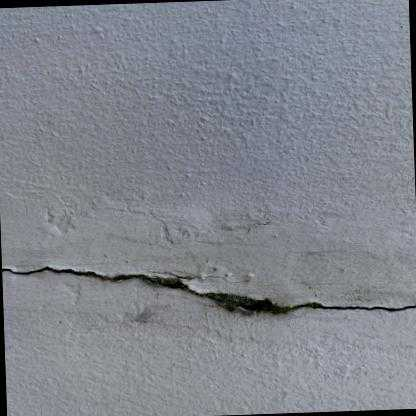crack: (296, 302, 416, 311), (2, 266, 76, 274)
